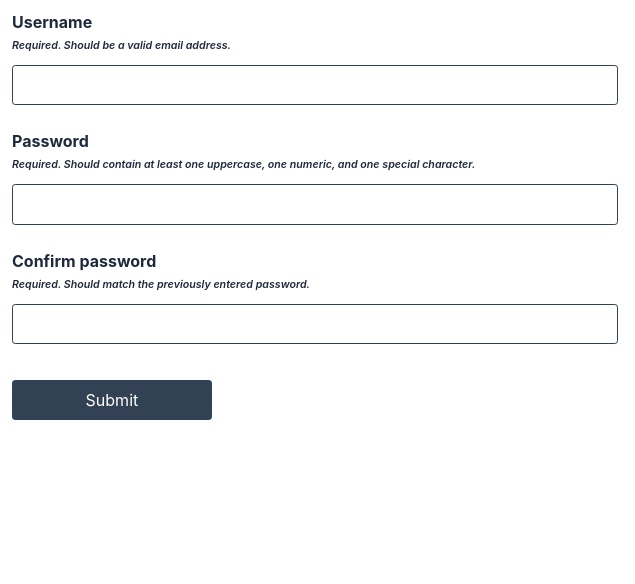
Test: informs user of missing required fields on submit
The width and height of the screenshot is (635, 584).
What coordinates should you click on to do the following:
click the button "Submit"
I would click on:
 (112, 400)
Its box is [12,380,212,420].
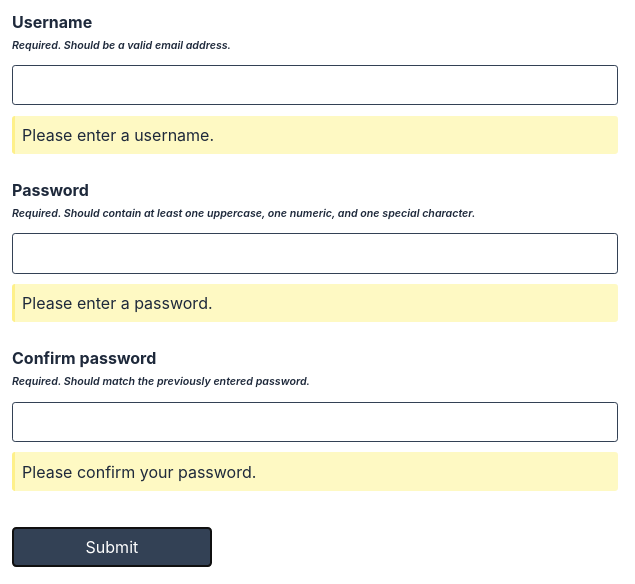
Now the text "Please enter a username." is shown, box [12,116,618,154]
Now the text "Please enter a password." is shown, box [12,284,618,322]
Now the text "Please confirm your password." is shown, box [12,452,618,491]
